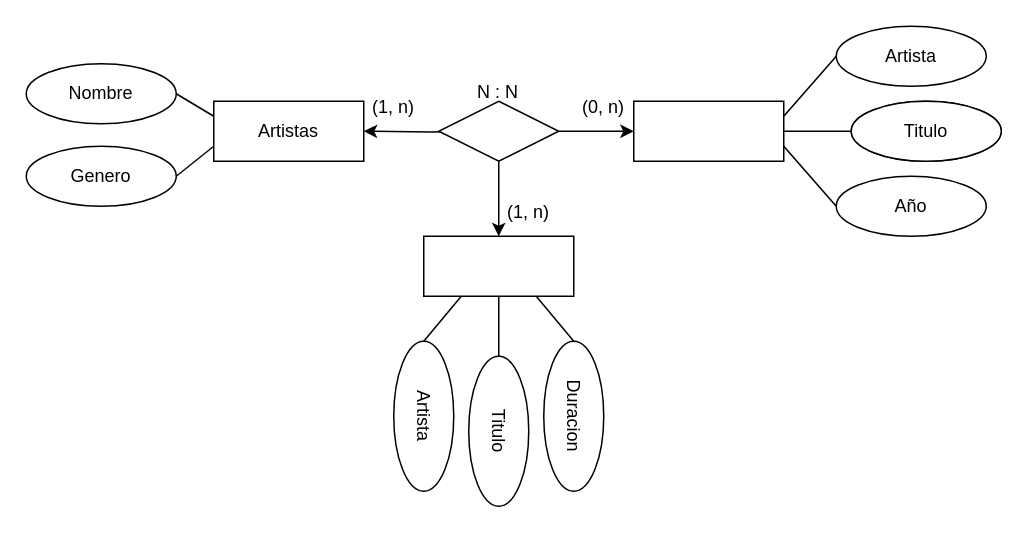
This 1028x533 diagram has some shape labels left out. The shapes that lost their labels are listed below. From the top down, each one's centre as x and y in pixels, then its label:
the point at 498,130: Tienen
the point at 708,130: Albumes
the point at 498,265: Canciones
